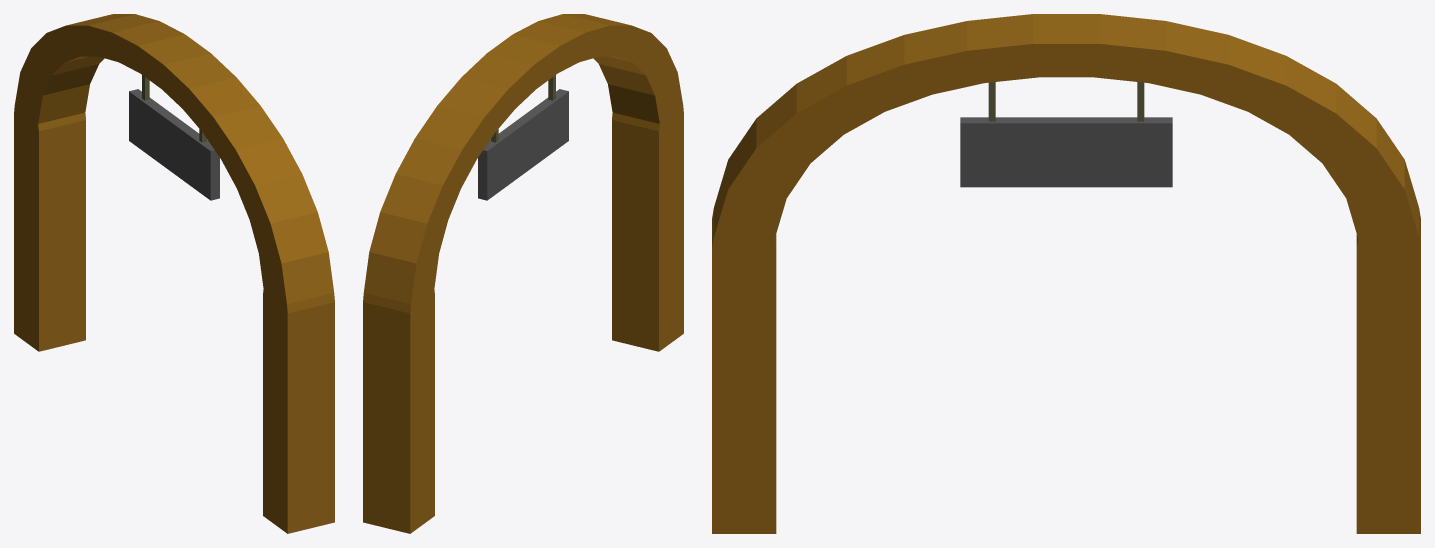
Rendered from Entrance.fbx.
The picture shows the model from 3 angles, left to right: view 1: azimuth 30°, elevation 25°; view 2: azimuth 150°, elevation 25°; view 3: azimuth 270°, elevation 25°; orthographic projection. The views are drawn at different scales.
Parts seen in each view (by area): view 1: Cube, Cube.002; view 2: Cube, Cube.002; view 3: Cube, Cube.002.
Part boxes in pixels (bbox=[...]): Cube: bbox=[14, 14, 334, 533]; Cube.002: bbox=[129, 89, 219, 200]; Cube: bbox=[363, 14, 683, 533]; Cube.002: bbox=[478, 89, 568, 200]; Cube: bbox=[712, 14, 1420, 533]; Cube.002: bbox=[960, 117, 1172, 187].
Bounding box in the file's own units: 200 × 1530 × 2006.
